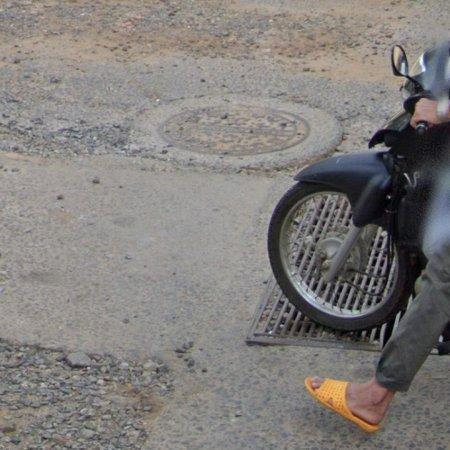motorcycles: (270, 42, 450, 332)
